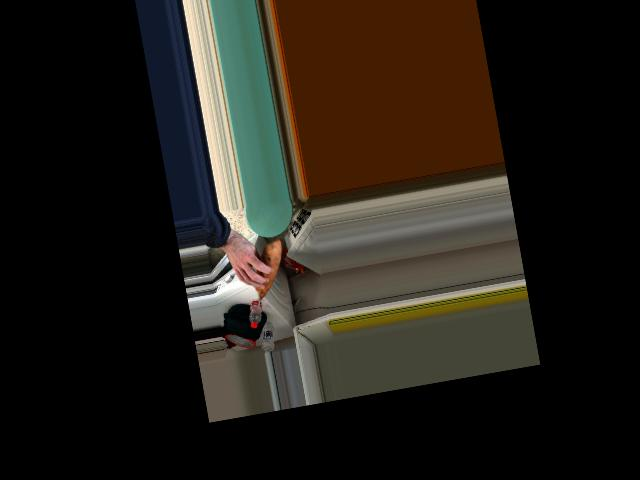sweet_potato: (240, 248, 288, 298)
